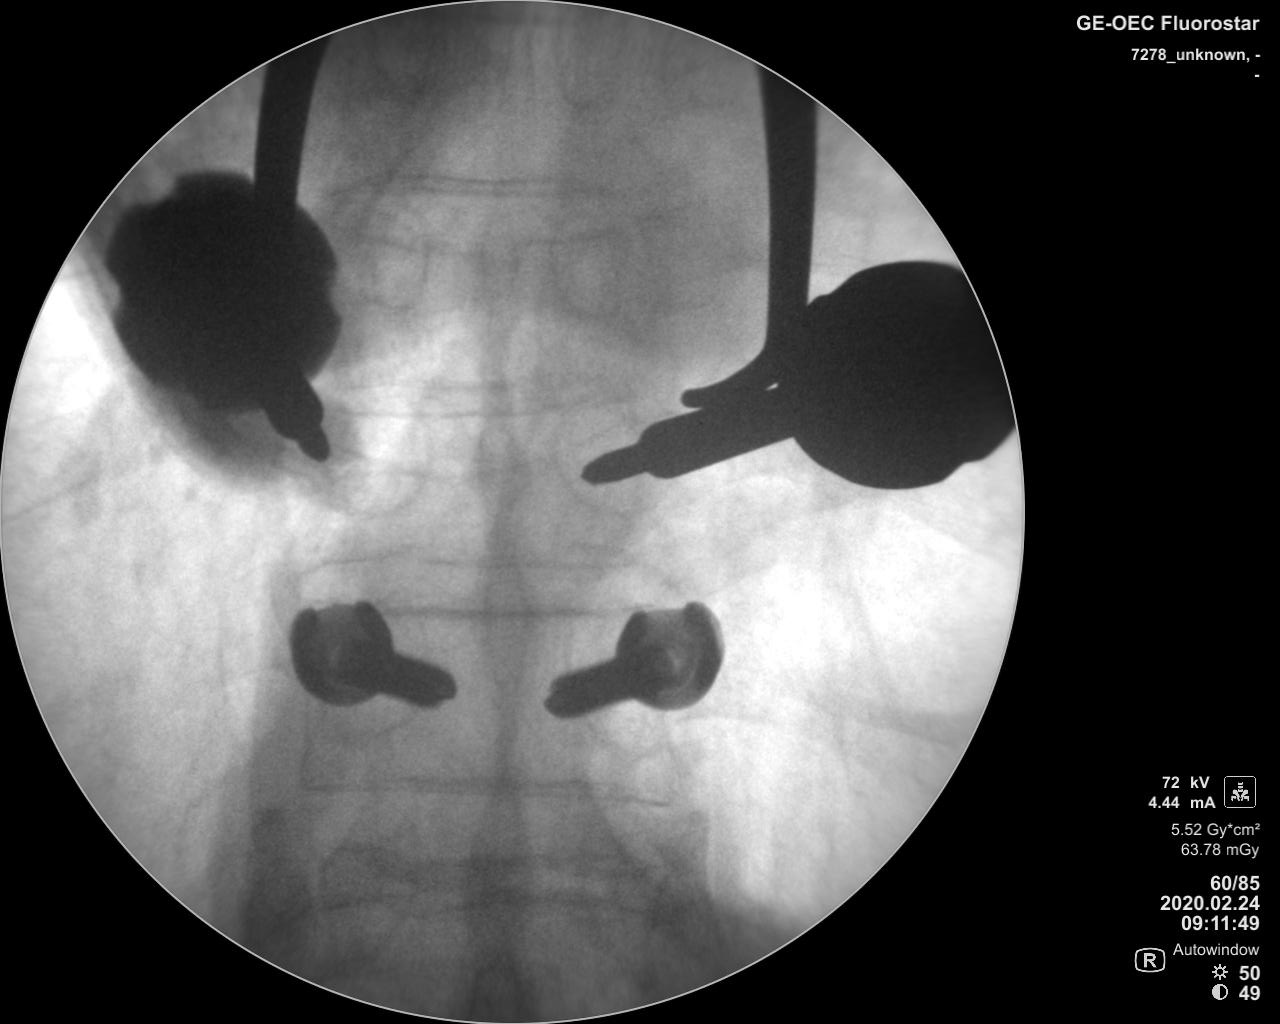eyes: (326, 386, 436, 526), (552, 396, 641, 518), (563, 606, 637, 743), (348, 195, 430, 315), (551, 213, 629, 320)
line: (336, 764, 647, 808), (342, 373, 630, 420), (383, 538, 636, 574), (375, 167, 621, 203), (380, 592, 618, 626)
nose: (460, 769, 536, 953), (464, 362, 528, 534), (472, 546, 525, 709), (469, 197, 519, 356)
